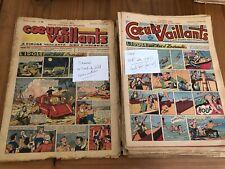paper: (0, 18, 120, 162), (120, 12, 225, 157)
